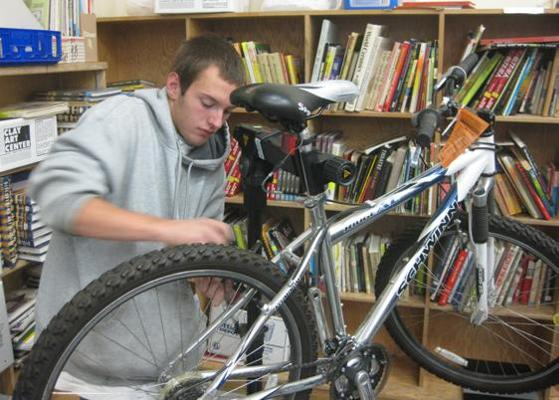person: (26, 27, 250, 398)
